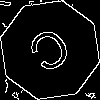C: (25, 25, 80, 83)
